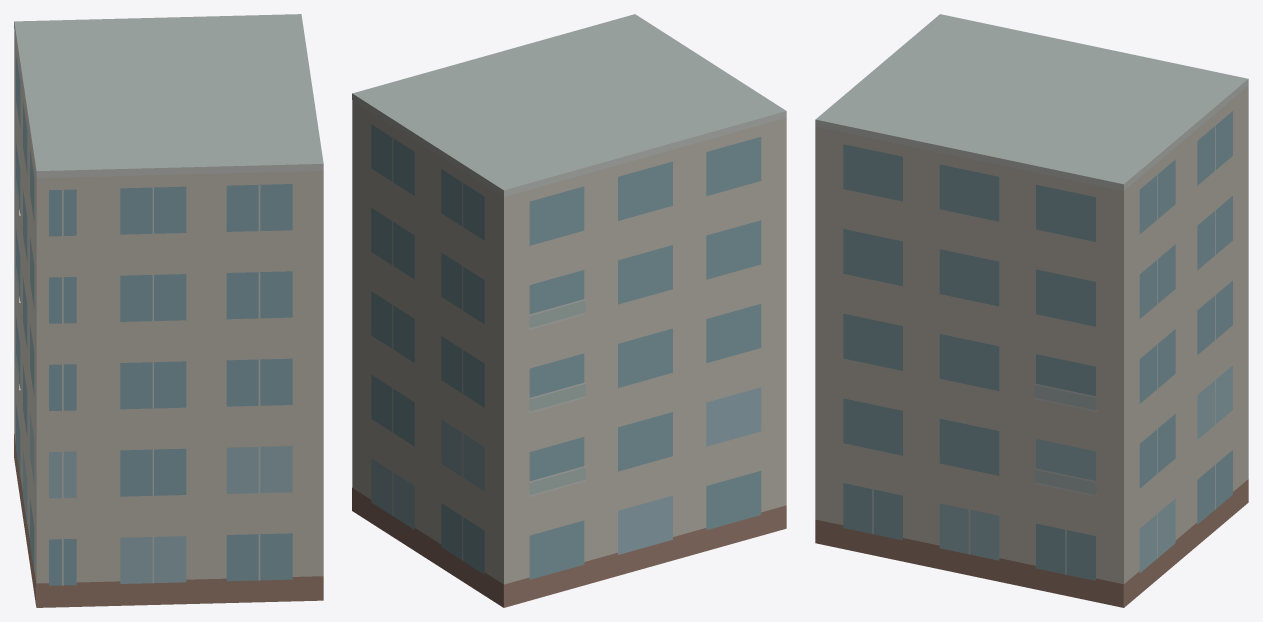
The model's file is survey-upis-32727539.glb.
3 renders of one model, left to right at view 1: azimuth 30°, elevation 25°; view 2: azimuth 150°, elevation 25°; view 3: azimuth 270°, elevation 25°, orthographic. The views are drawn at different scales.
Visible parts, largest first — view 1: survey-upis-32727539.tmp; view 2: survey-upis-32727539.tmp; view 3: survey-upis-32727539.tmp.
Boxes of the visible parts, bbox=[...] form: survey-upis-32727539.tmp: bbox=[14, 14, 323, 607]; survey-upis-32727539.tmp: bbox=[352, 14, 786, 607]; survey-upis-32727539.tmp: bbox=[815, 14, 1248, 607].
Bounding box in the file's own units: 13.2 × 15.3 × 14.19.
